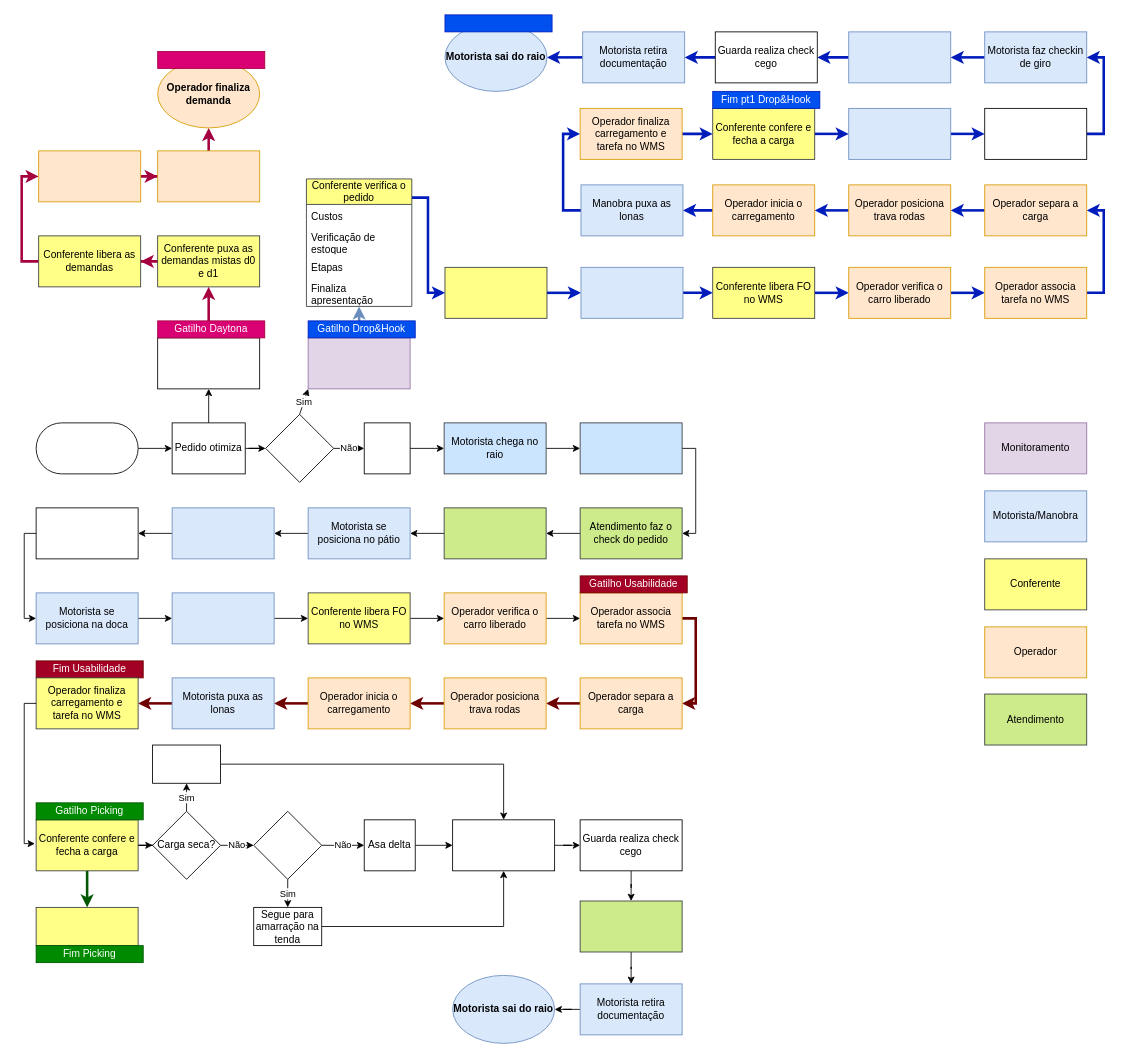
The diagram is 1126 pixels wide and 1058 high, and some of its shapes have lost their labels. The centre of each missing label's shape, as x and y in pixels:
"Amarra na doca com trava quedas" belongs at point 186,763.
"Atendimento entrega a FO e libera a entrada" belongs at point 494,533.
"Atendimento separa e confere as NFs" belongs at point 630,926.
"Atendimento verifica NFs, CTe e VP" belongs at point 1035,133.
"Checkin da TP" belongs at point 386,448.
"Conferente aciona controlador de pátio" belongs at point 222,533.
"Conferente aciona o manobra" belongs at point 495,292.
"Conferente verifica picking no Workstation e ajusta caso existam erros" belongs at point 86,926.
"Controlador aciona motorista" belongs at point 86,533.
"Drop?" belongs at point 299,448.
"Fim Daytona" belongs at point 211,59.
"Fim pt2 Drop&Hook" belongs at point 498,23.
"FO faz integração com WMS" belongs at point 208,363.
"Manobra posiciona carro na doca" belongs at point 631,292.
"Manobra puxa carro para o pátio" belongs at point 899,133.
"Monitoramento apresenta o pedido via Motora" belongs at point 358,363.
"Motorista faz a integração" belongs at point 630,448.
"Motorista prepara caminhão" belongs at point 222,618.
"Motorista segue para portaria" belongs at point 899,57.
"Operador associa a tarefa" belongs at point 89,176.
"Operador separa o produto no PC" belongs at point 208,176.
"Pedido é criado" belongs at point 86,448.
"Segue para portaria" belongs at point 503,845.
"Sider oco?" belongs at point 287,844.
